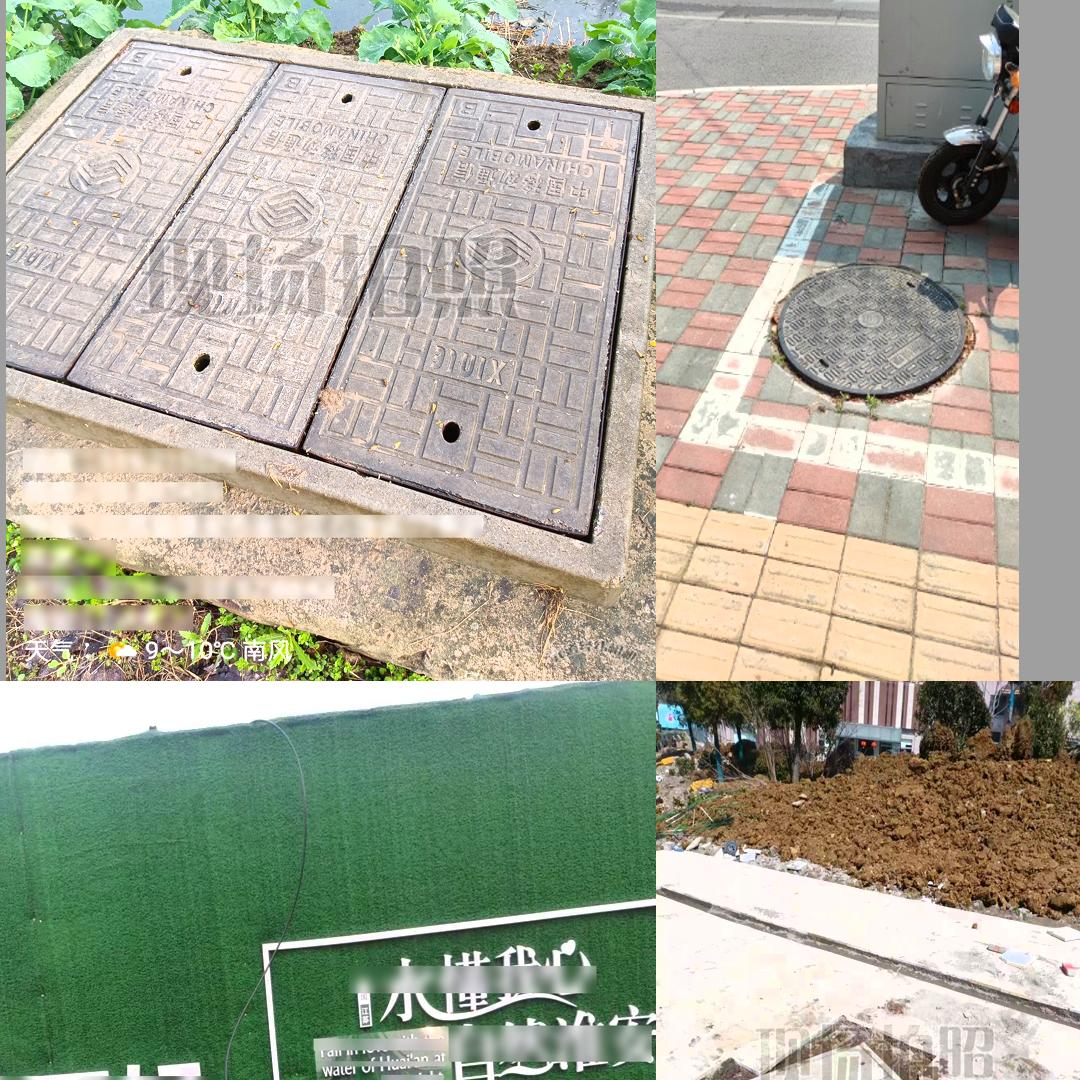good: (6, 24, 654, 589), (776, 261, 966, 394), (723, 1040, 986, 1080)
